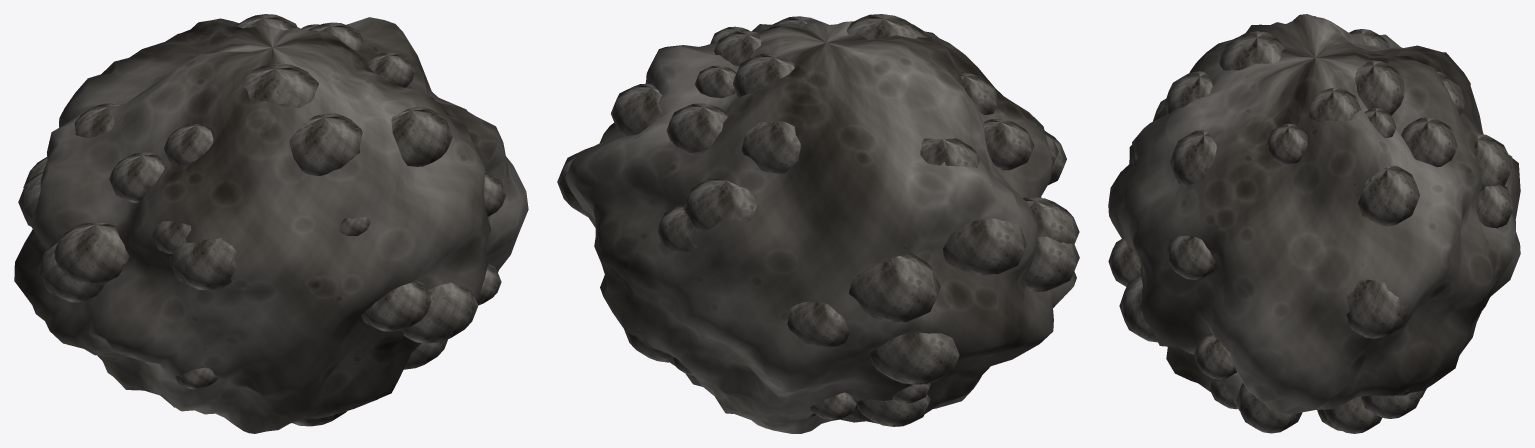
File: solar-asteroid-04.glb
The picture shows the model from 3 angles, left to right: view 1: azimuth 30°, elevation 25°; view 2: azimuth 150°, elevation 25°; view 3: azimuth 270°, elevation 25°; orthographic projection. The views are drawn at different scales.
Visible parts, largest first — view 1: asteroid-04 | nucleus, Rubble clast 40, Rubble clast 46, Rubble clast 23, Rubble clast 31, Rubble clast 04, Rubble clast 09, Rubble clast 28, Rubble clast 03, Rubble clast 39, Rubble clast 36, Rubble clast 18 (+9 smaller); view 2: asteroid-04 | nucleus, Rubble clast 19, Rubble clast 12, Rubble clast 47, Rubble clast 41, Rubble clast 45, Rubble clast 13, Rubble clast 00, Rubble clast 39, Rubble clast 27, Rubble clast 03, Rubble clast 07 (+12 smaller); view 3: asteroid-04 | nucleus, Rubble clast 26, Rubble clast 27, Rubble clast 13, Rubble clast 07, Rubble clast 23, Rubble clast 09, Rubble clast 14, Rubble clast 02, Rubble clast 41, Rubble clast 17, Rubble clast 18 (+11 smaller).
Part boxes in pixels (x1,y1,x2,y2): asteroid-04 | nucleus: (14, 17, 528, 433); Rubble clast 40: (54, 222, 129, 283); Rubble clast 46: (289, 113, 362, 175); Rubble clast 23: (391, 106, 452, 166); Rubble clast 31: (402, 282, 478, 343); Rubble clast 04: (169, 238, 236, 290); Rubble clast 09: (243, 63, 318, 107); Rubble clast 28: (361, 279, 431, 331); Rubble clast 03: (109, 152, 164, 202); Rubble clast 39: (38, 241, 105, 302); Rubble clast 36: (164, 124, 213, 164); Rubble clast 18: (367, 52, 415, 87); asteroid-04 | nucleus: (565, 20, 1076, 433); Rubble clast 19: (849, 252, 940, 322); Rubble clast 12: (943, 218, 1026, 275); Rubble clast 47: (870, 332, 959, 384); Rubble clast 41: (683, 178, 757, 229); Rubble clast 45: (742, 121, 800, 173); Rubble clast 13: (666, 103, 727, 152); Rubble clast 00: (787, 302, 850, 346); Rubble clast 39: (1025, 236, 1079, 291); Rubble clast 27: (611, 83, 663, 136); Rubble clast 03: (983, 118, 1034, 170); Rubble clast 07: (732, 53, 794, 97); asteroid-04 | nucleus: (1108, 14, 1520, 415); Rubble clast 26: (1346, 279, 1410, 338); Rubble clast 27: (1358, 165, 1419, 226); Rubble clast 13: (1401, 117, 1457, 167); Rubble clast 07: (1354, 60, 1404, 114); Rubble clast 23: (1170, 130, 1216, 187); Rubble clast 09: (1219, 31, 1284, 70); Rubble clast 14: (1166, 235, 1216, 279); Rubble clast 02: (1236, 383, 1302, 433); Rubble clast 41: (1473, 133, 1512, 187); Rubble clast 17: (1308, 87, 1360, 122); Rubble clast 18: (1266, 123, 1307, 164).
Bounding box in the file's own units: 2.34 × 1.76 × 1.85.
1 material, 1 textured.
